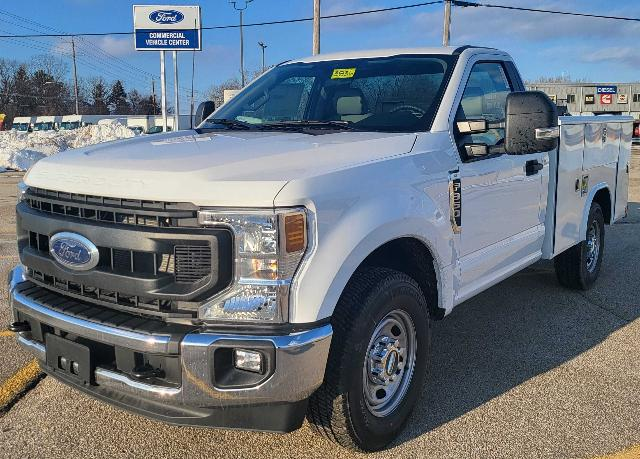pickup-truck: (6, 45, 635, 452)
